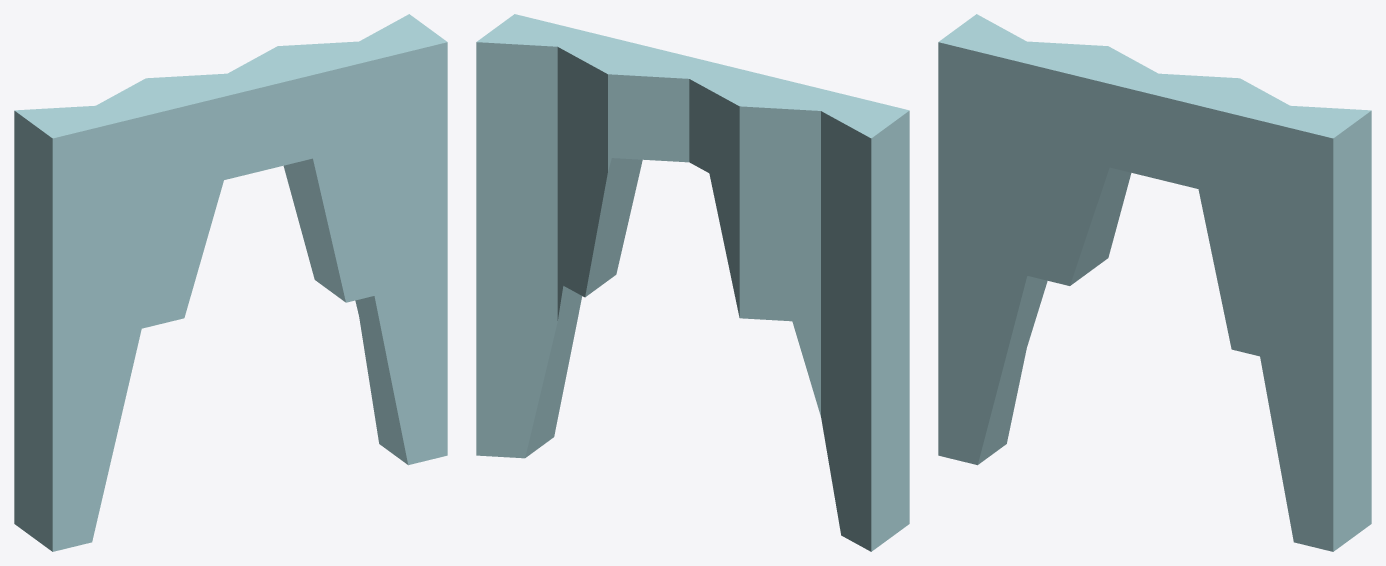
File: cliff_cave_stone.glb
3 renders of one model, left to right at view 1: azimuth 30°, elevation 25°; view 2: azimuth 150°, elevation 25°; view 3: azimuth 330°, elevation 25°, orthographic.
Visible parts, largest first — view 1: cliff_cave_stone; view 2: cliff_cave_stone; view 3: cliff_cave_stone.
Part boxes in pixels (box(x1,y1,x2,y2)): cliff_cave_stone: box(14, 14, 447, 551); cliff_cave_stone: box(476, 14, 909, 551); cliff_cave_stone: box(938, 14, 1371, 551).
Bounding box in the file's own units: 1 × 1 × 0.1685.
